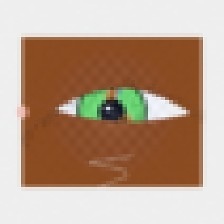foreign_body_visible: (103, 82, 122, 98)
